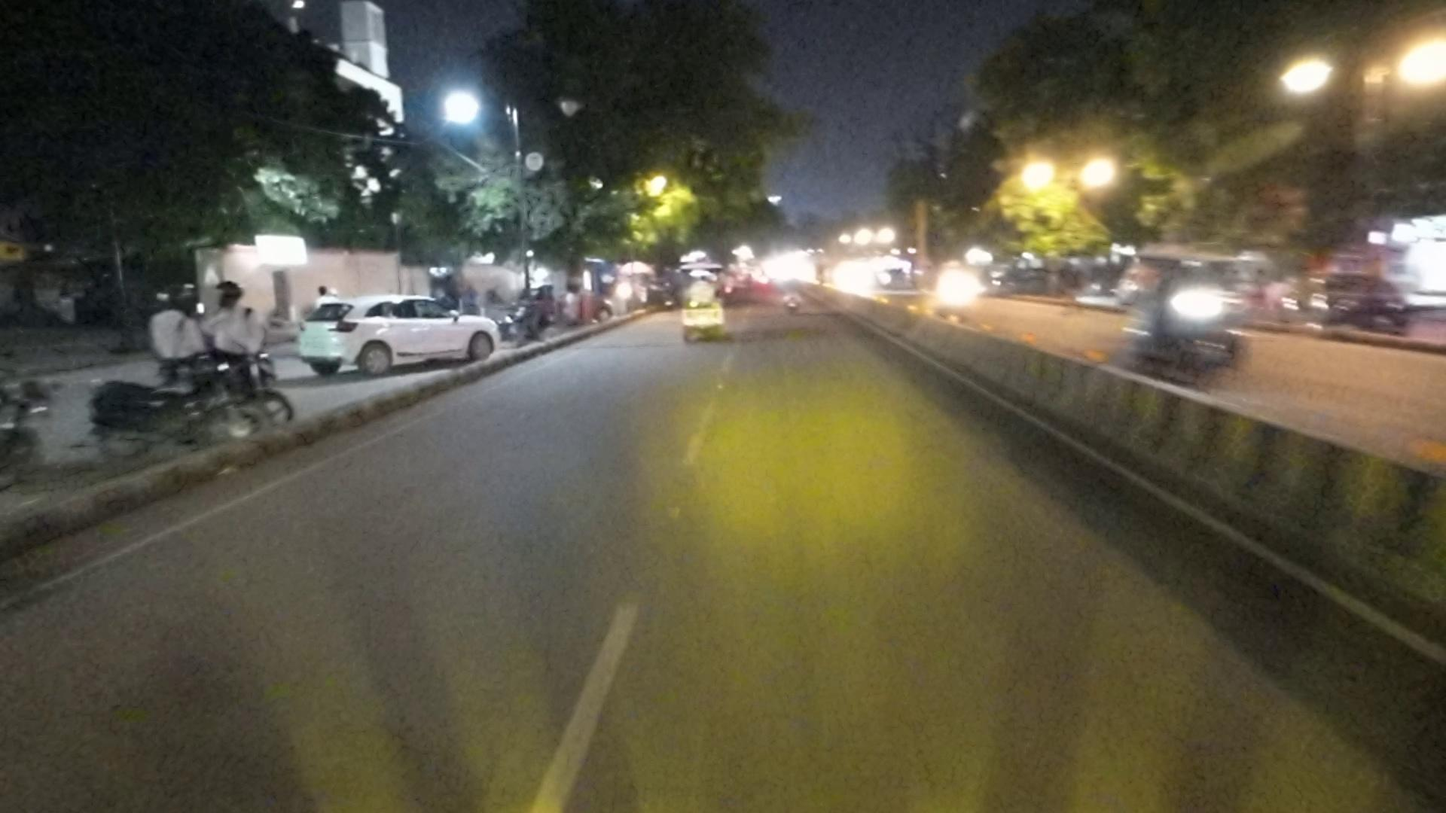streetlight: (546, 68, 595, 127)
